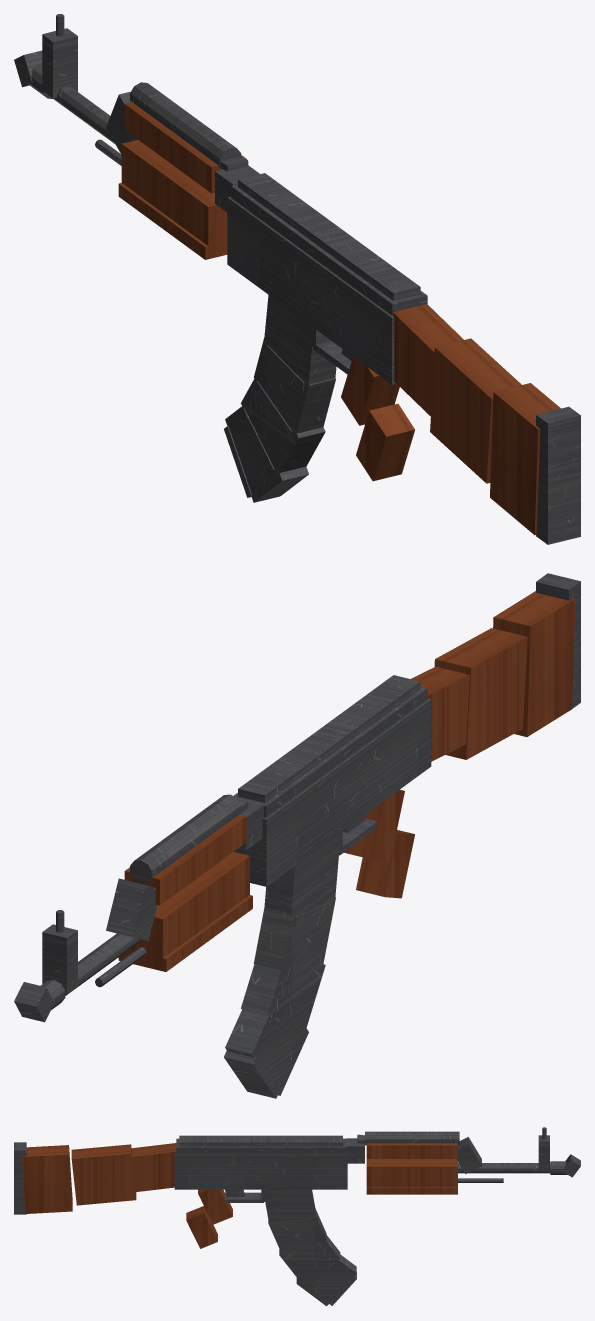
3 views of the same model, one above another, from view 1: azimuth 30°, elevation 25°; view 2: azimuth 150°, elevation 25°; view 3: azimuth 270°, elevation 25° (orthographic). The views are drawn at different scales.
Parts seen in each view (by area): view 1: ak; view 2: ak; view 3: ak.
Part boxes in pixels (box(x1,y1,x2,y2)): ak: box(14, 14, 580, 544); ak: box(14, 573, 580, 1098); ak: box(14, 1127, 580, 1306).
Bounding box in the file's own units: 0.046 × 0.3067 × 0.901.
Materials: 3 (3 with a texture image).
